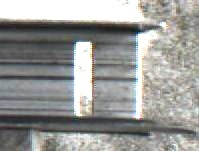40ngpress: (43, 18, 155, 134)
